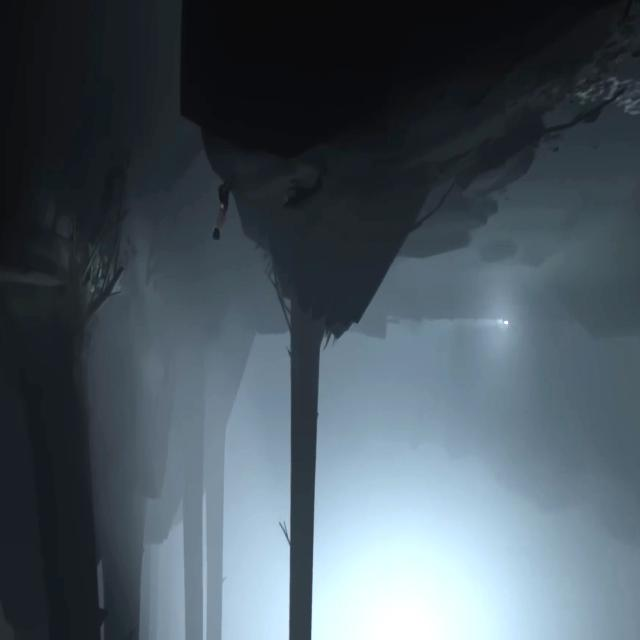boy: (212, 174, 233, 240)
dog: (283, 168, 325, 211)
